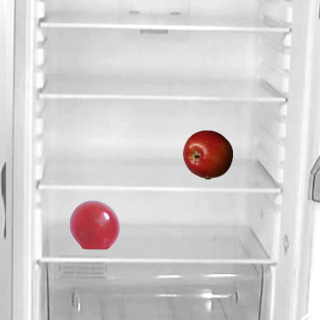Apple Braeburn: (182, 129, 232, 179)
Redcurrant: (69, 199, 119, 249)
